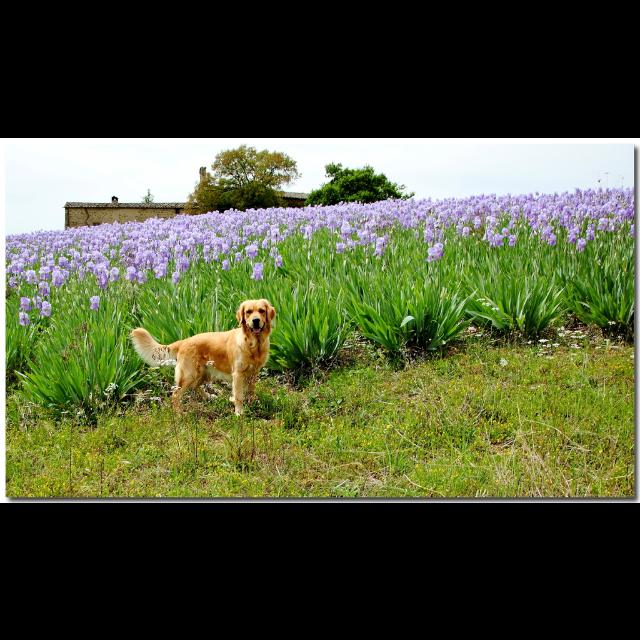Flower: (1, 192, 632, 316)
